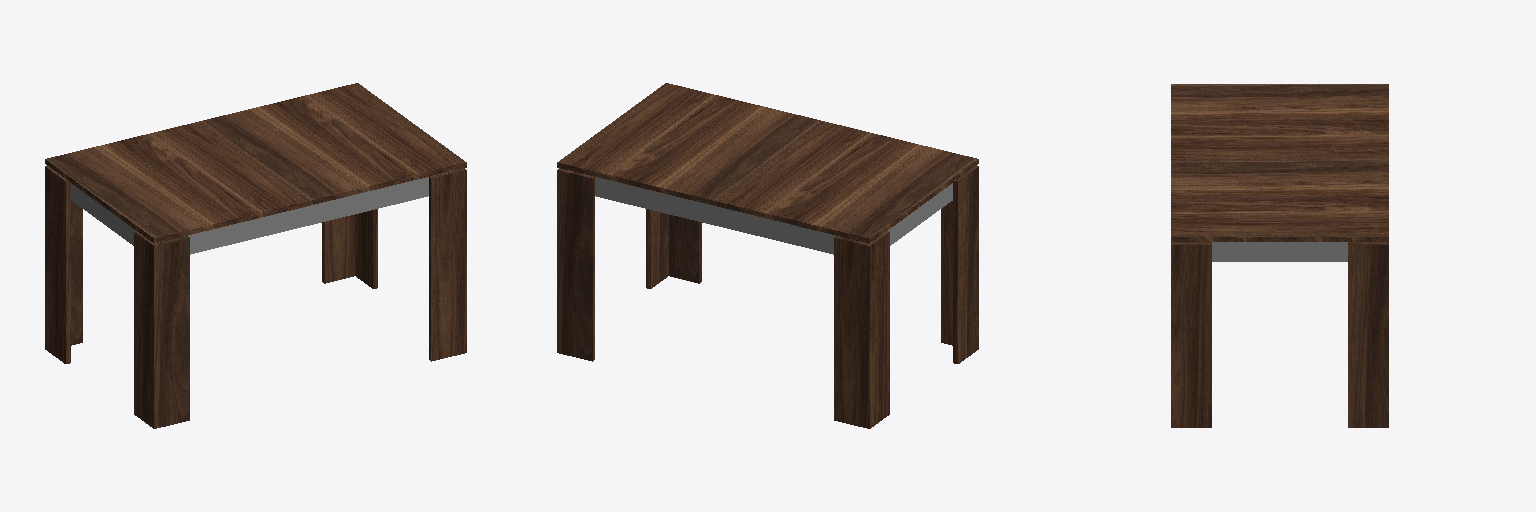
The picture shows the model from 3 angles: view 1: azimuth 30°, elevation 25°; view 2: azimuth 150°, elevation 25°; view 3: azimuth 270°, elevation 25°; orthographic projection.
Parts seen in each view (by area): view 1: Box001, Rectangle002, Rectangle001; view 2: Box001, Rectangle002, Rectangle001; view 3: Box001, Rectangle002, Rectangle001.
Part boxes in pixels (bbox=[...]): Box001: bbox=[45, 83, 466, 243]; Rectangle002: bbox=[45, 166, 466, 428]; Rectangle001: bbox=[71, 170, 454, 254]; Box001: bbox=[557, 83, 978, 243]; Rectangle002: bbox=[557, 166, 978, 428]; Rectangle001: bbox=[569, 170, 952, 254]; Box001: bbox=[1171, 84, 1388, 241]; Rectangle002: bbox=[1171, 242, 1388, 427]; Rectangle001: bbox=[1212, 242, 1347, 261].
Bounding box in the file's own units: 0.052 × 0.0303 × 0.0314.
Materials: 2 (1 with a texture image).